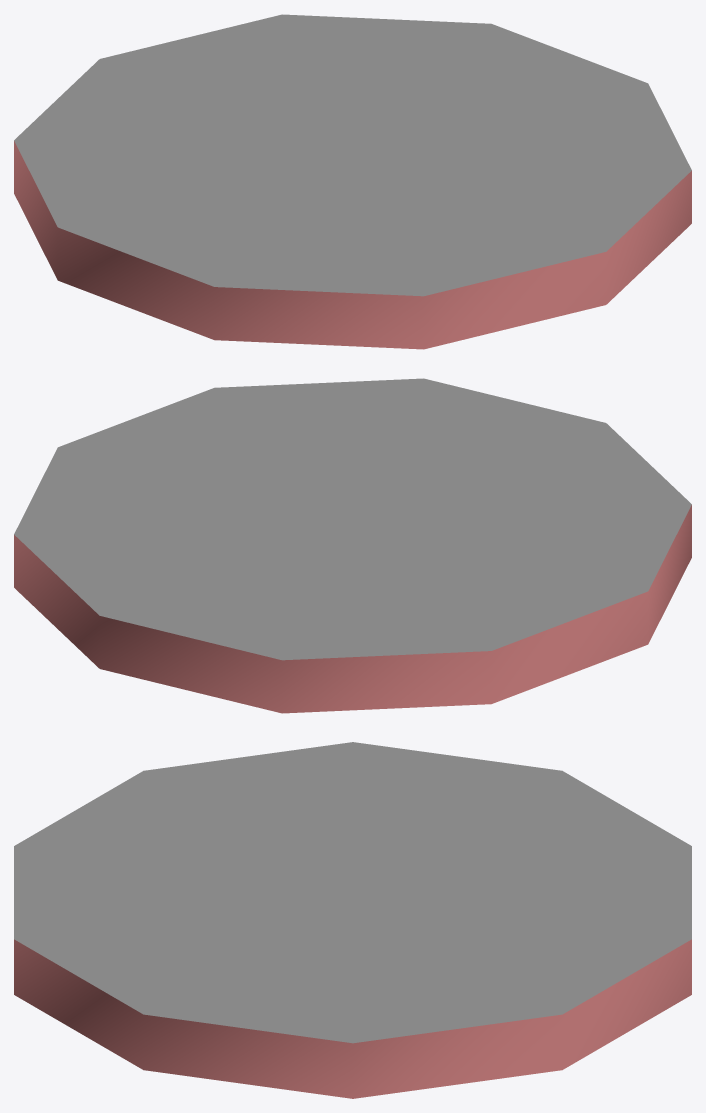
Rendered from hdrtower_p2_main_down.gltf.
3 views of the same model, one above another, from view 1: azimuth 30°, elevation 25°; view 2: azimuth 150°, elevation 25°; view 3: azimuth 270°, elevation 25° (orthographic). The views are drawn at different scales.
Parts seen in each view (by area): view 1: hdrtower_p2_main_down; view 2: hdrtower_p2_main_down; view 3: hdrtower_p2_main_down.
Part boxes in pixels (x1=…): hdrtower_p2_main_down: x1=14, y1=14, x2=691, y2=349; hdrtower_p2_main_down: x1=14, y1=378, x2=691, y2=713; hdrtower_p2_main_down: x1=14, y1=742, x2=691, y2=1098.
Size of the model in its own units: 2 by 0.1722 by 1.9.
